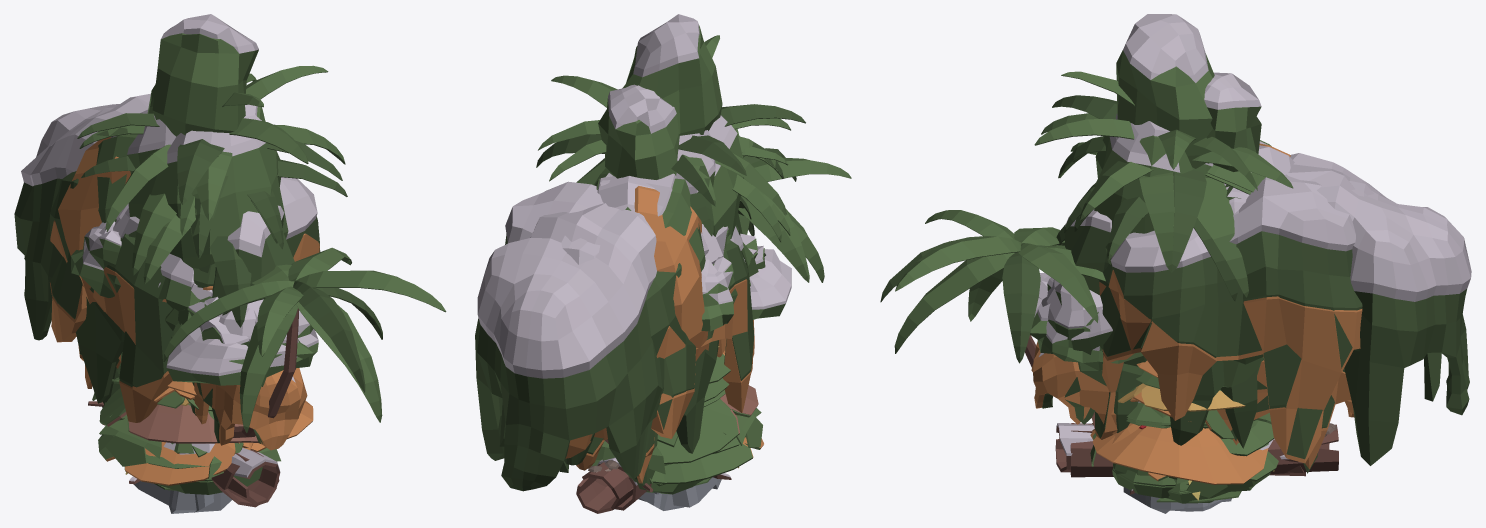
File: nature.glb
3 renders of one model, left to right at view 1: azimuth 30°, elevation 25°; view 2: azimuth 150°, elevation 25°; view 3: azimuth 270°, elevation 25°, orthographic. The views are drawn at different scales.
Parts seen in each view (by area): view 1: palmtree_2__part0, palmtree_1__part0, birchtree_5__part0, willow_4__part0, birchtree_2__part0, willow_2__part0, palmtree_4__part0, willow_autumn_4__part0, willow_autumn_5__part0, willow_snow_2__part0, palmtree_3__part0, commontree_snow_1__part0 (+21 smaller); view 2: willow_snow_2__part0, willow_2__part0, birchtree_5__part0, willow_4__part0, palmtree_3__part0, birchtree_snow_5__part0, birchtree_autumn_1__part0, palmtree_1__part0, willow_autumn_4__part0, palmtree_2__part0, willow_snow_4__part0, pinetree_2__part0 (+21 smaller); view 3: willow_4__part0, willow_2__part0, willow_autumn_4__part0, palmtree_2__part0, willow_snow_2__part0, palmtree_1__part0, willow_snow_4__part0, palmtree_3__part0, birchtree_5__part0, pinetree_autumn_1__part0, birchtree_snow_5__part0, birchtree_2__part0 (+20 smaller).
Part boxes in pixels (x1,y1,x2,y2): palmtree_2__part0: (163, 247, 446, 437); palmtree_1__part0: (77, 65, 345, 258); birchtree_5__part0: (147, 33, 258, 136); willow_4__part0: (50, 171, 320, 387); birchtree_2__part0: (128, 106, 294, 313); willow_2__part0: (14, 178, 124, 403); palmtree_4__part0: (81, 155, 347, 327); willow_autumn_4__part0: (50, 220, 319, 422); willow_autumn_5__part0: (194, 368, 307, 450); willow_snow_2__part0: (21, 93, 150, 220); palmtree_3__part0: (79, 124, 305, 275); commontree_snow_1__part0: (166, 299, 318, 375); willow_snow_2__part0: (477, 203, 708, 378); willow_2__part0: (475, 300, 718, 491); birchtree_5__part0: (598, 25, 722, 179); willow_4__part0: (505, 225, 754, 429); palmtree_3__part0: (536, 104, 805, 242); birchtree_snow_5__part0: (608, 14, 699, 133); birchtree_autumn_1__part0: (634, 186, 726, 361); palmtree_1__part0: (538, 35, 790, 214); willow_autumn_4__part0: (565, 279, 753, 458); palmtree_2__part0: (735, 129, 851, 282); willow_snow_4__part0: (505, 181, 603, 264); pinetree_2__part0: (657, 354, 750, 464); willow_4__part0: (1095, 231, 1362, 459); willow_2__part0: (1220, 289, 1469, 465); willow_autumn_4__part0: (1095, 270, 1362, 463); palmtree_2__part0: (880, 210, 1105, 367); willow_snow_2__part0: (1226, 153, 1471, 301); palmtree_1__part0: (1034, 71, 1293, 301); willow_snow_4__part0: (1110, 174, 1373, 272); palmtree_3__part0: (1052, 95, 1274, 297); birchtree_5__part0: (1116, 50, 1261, 171); pinetree_autumn_1__part0: (1092, 360, 1268, 484); birchtree_snow_5__part0: (1123, 14, 1261, 109); birchtree_2__part0: (1065, 135, 1192, 294).
Size of the model in its own units: 2.88 by 5.29 by 5.88.
